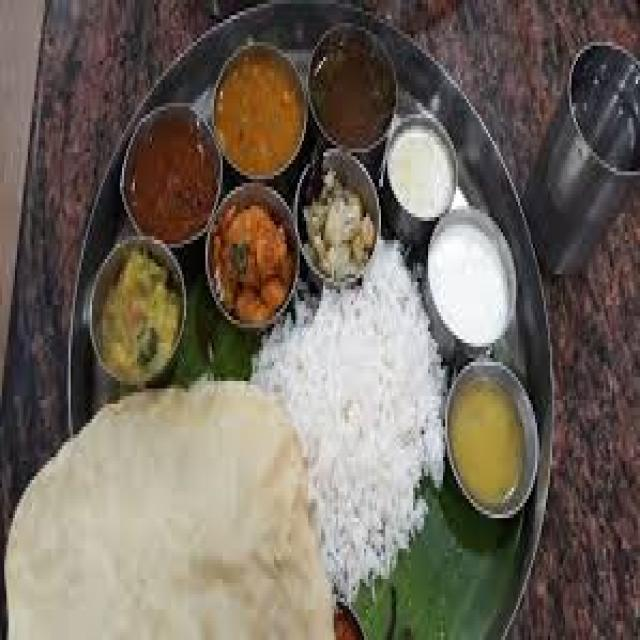curd: (420, 202, 526, 355)
dal: (446, 356, 540, 510), (208, 46, 308, 185)
papad: (6, 391, 300, 640)
raita: (389, 114, 460, 221)
rice: (298, 259, 442, 571)
sambar-rasam: (120, 95, 222, 251)
veg: (82, 236, 185, 405)
veg-fry: (202, 190, 301, 327)
